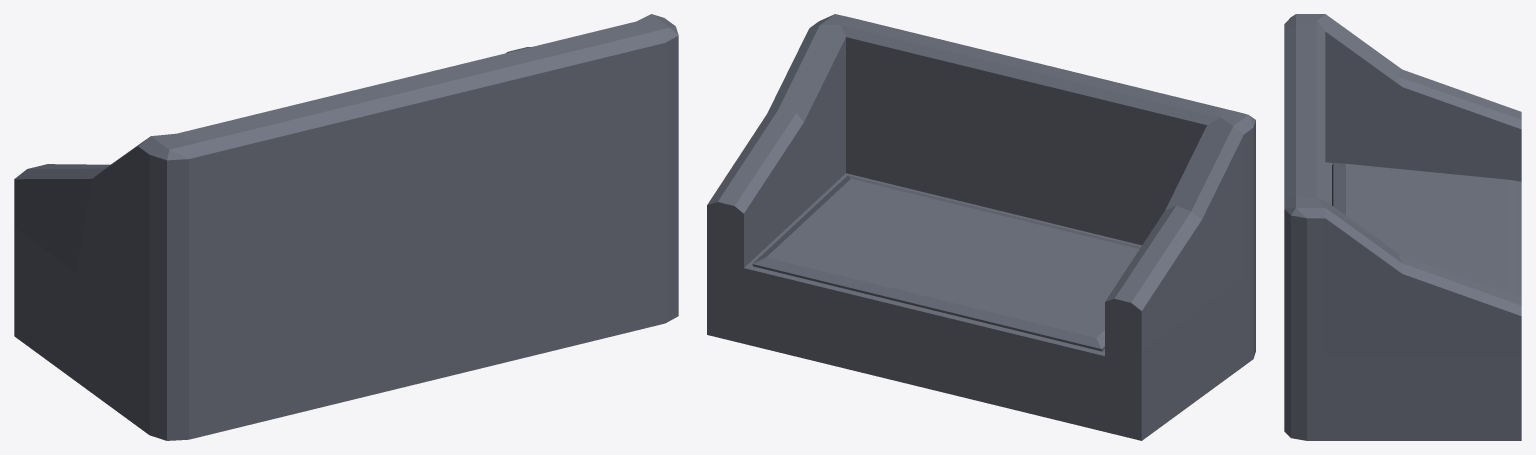
Rendered from Sofa.002.fbx.
The picture shows the model from 3 angles, left to right: view 1: azimuth 30°, elevation 25°; view 2: azimuth 150°, elevation 25°; view 3: azimuth 270°, elevation 25°; orthographic projection. The views are drawn at different scales.
Visible parts, largest first — view 1: Sofa.002; view 2: Sofa.002; view 3: Sofa.002.
Part boxes in pixels (bbox=[...]): Sofa.002: bbox=[14, 14, 678, 440]; Sofa.002: bbox=[707, 14, 1255, 440]; Sofa.002: bbox=[1284, 14, 1521, 440].
Bounding box in the file's own units: 608 × 317 × 298.
